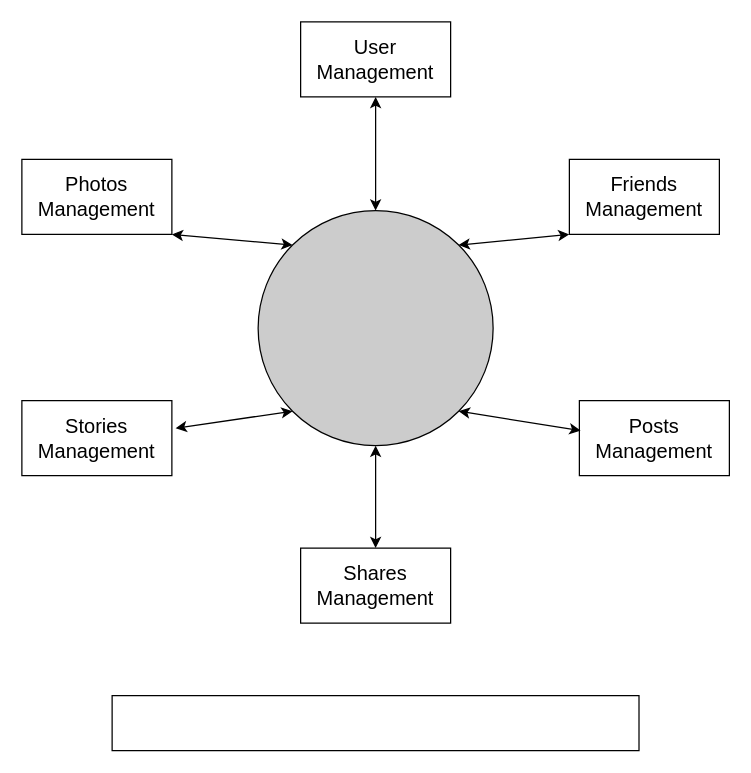
Some shapes in this 751 by 773 pixel diagram are drawn without their labels. Each missing label, with the centre of its shape:
"Social Networking Site" belongs at point 375,327.
"Zero Level DFD - Social Networking Site" belongs at point 375,722.
